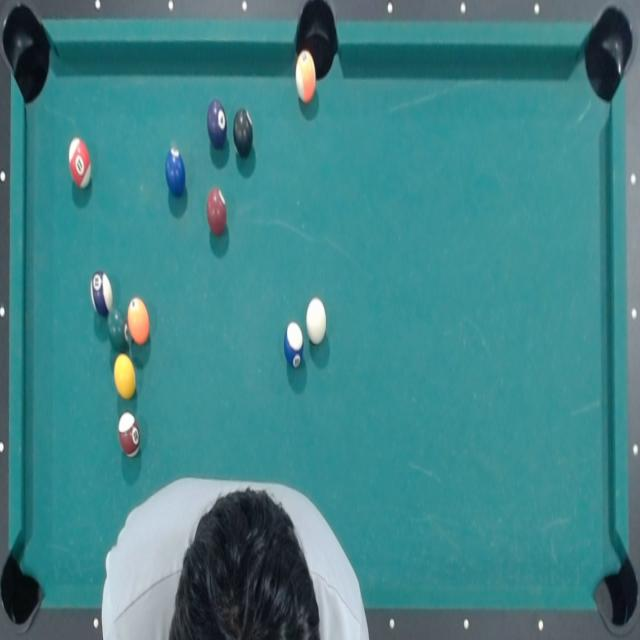black_8ball: (232, 107, 255, 160)
blue_solid: (164, 146, 187, 199)
blue_stripe: (283, 321, 307, 369)
cue_ball: (306, 297, 328, 345)
green_solid: (107, 309, 129, 355)
maroon_solid: (206, 186, 227, 236)
maroon_stripe: (117, 411, 141, 460)
orange_solid: (126, 296, 152, 346)
orange_stripe: (294, 49, 318, 105)
player_body: (96, 472, 373, 640)
playr: (206, 98, 228, 148)
purple_solid: (90, 268, 115, 316)
red_solid: (67, 136, 94, 189)
yellow_solid: (113, 353, 138, 400)
